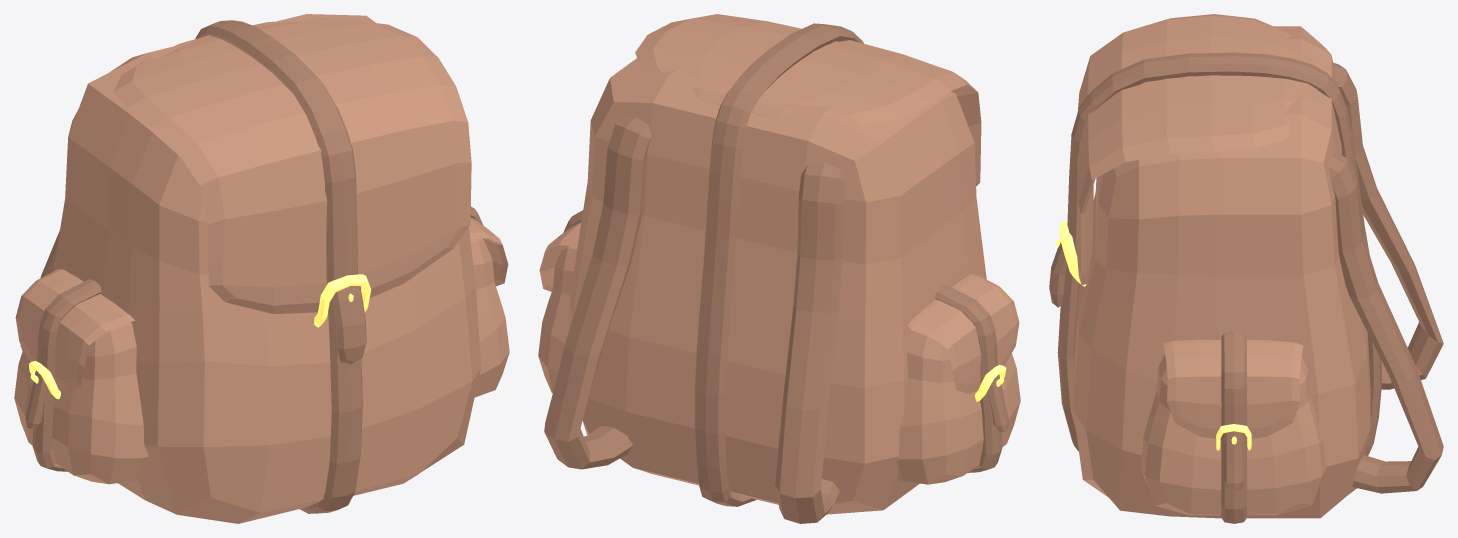
The model's file is Backpack.glb.
3 renders of one model, left to right at view 1: azimuth 30°, elevation 25°; view 2: azimuth 150°, elevation 25°; view 3: azimuth 270°, elevation 25°, orthographic. The views are drawn at different scales.
Visible parts, largest first — view 1: Backpack; view 2: Backpack; view 3: Backpack.
Boxes of the visible parts, <box> form: Backpack: <box>14,14,509,523</box>; Backpack: <box>538,14,1020,523</box>; Backpack: <box>1049,14,1443,523</box>.
Size of the model in its own units: 107 by 95.06 by 80.37.
